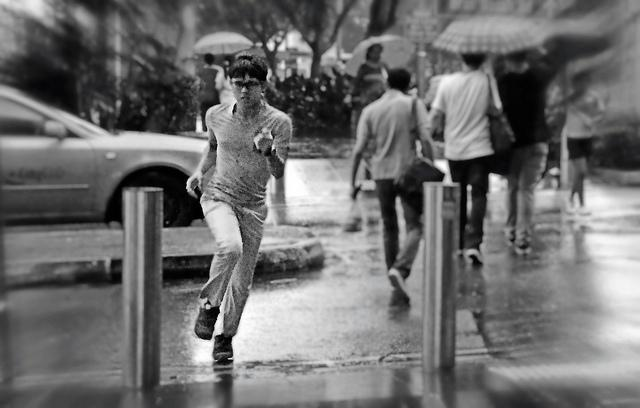car: (0, 86, 209, 228)
